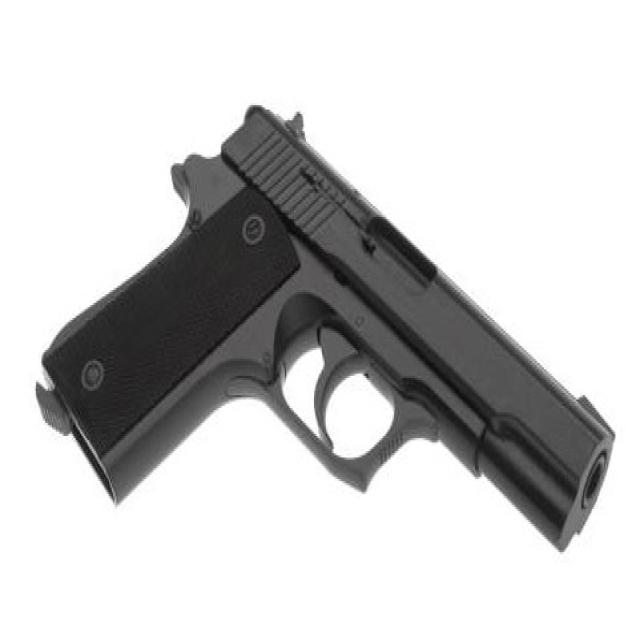pistol: (26, 97, 623, 567)
